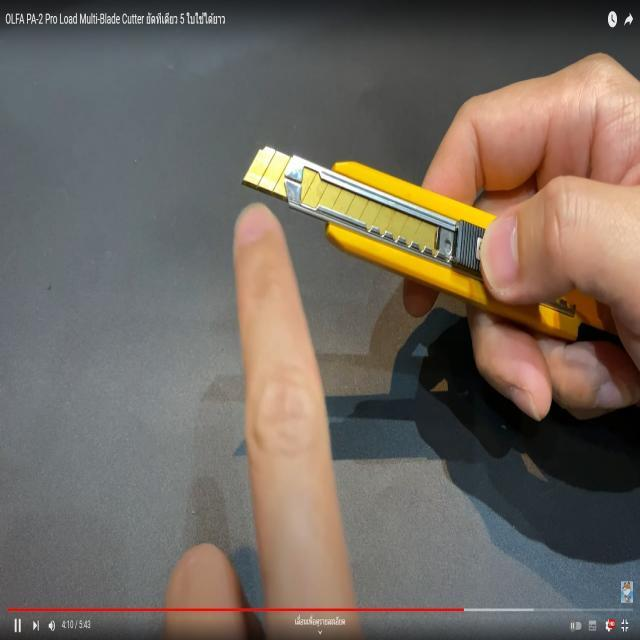cutter: (236, 99, 640, 476)
